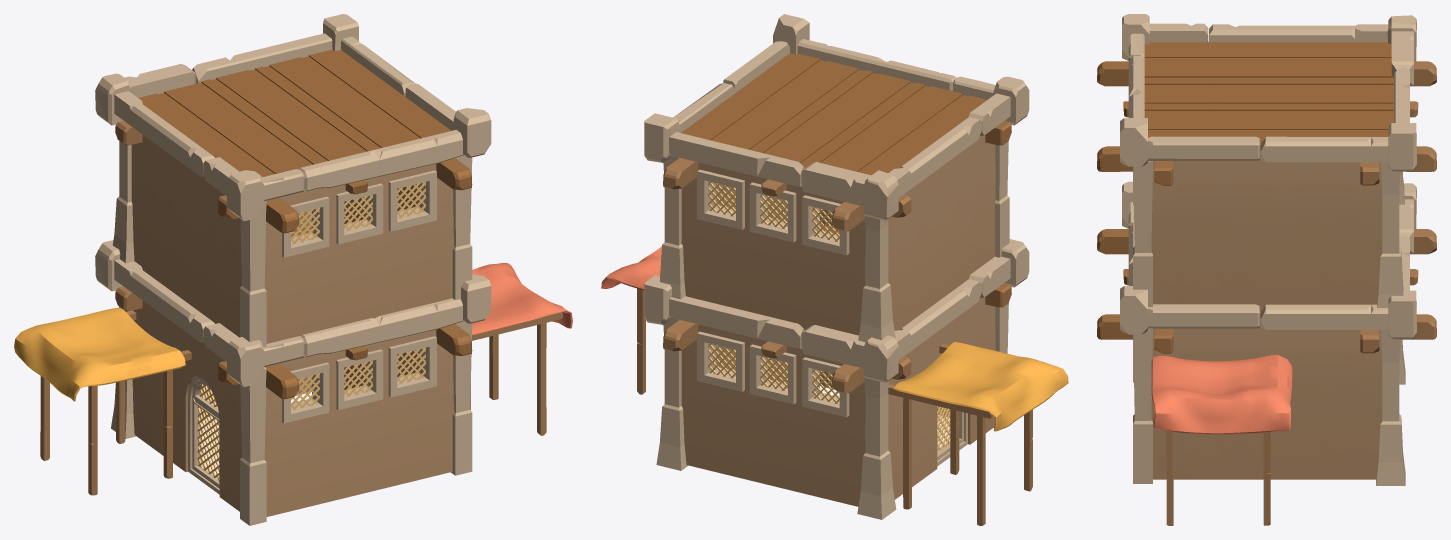
Rendered from Building02.fbx.
3 renders of one model, left to right at view 1: azimuth 30°, elevation 25°; view 2: azimuth 150°, elevation 25°; view 3: azimuth 270°, elevation 25°, orthographic. The views are drawn at different scales.
Parts seen in each view (by area): view 1: Building02; view 2: Building02; view 3: Building02.
Boxes of the visible parts, x1,y1,x2,y2 form: Building02: (14, 14, 572, 525); Building02: (601, 14, 1068, 525); Building02: (1097, 14, 1436, 525).
Size of the model in its own units: 8 by 5.07 by 5.96.
